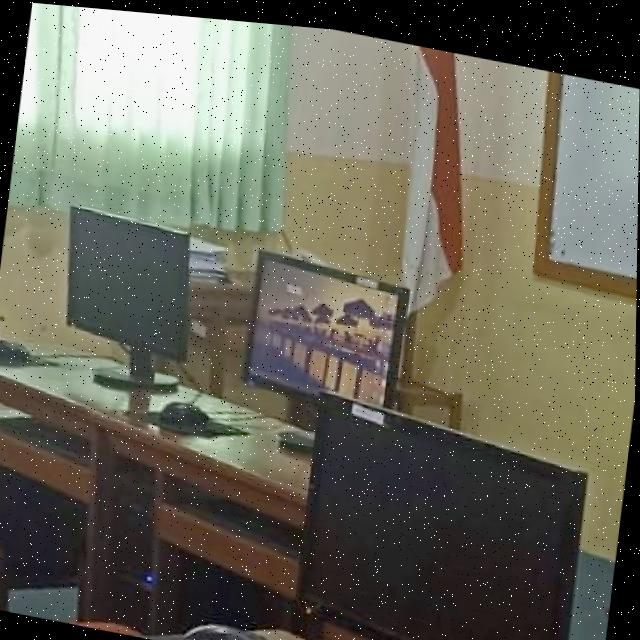offscreen: (299, 387, 587, 640), (68, 204, 190, 357)
onscreen: (245, 247, 407, 399)
